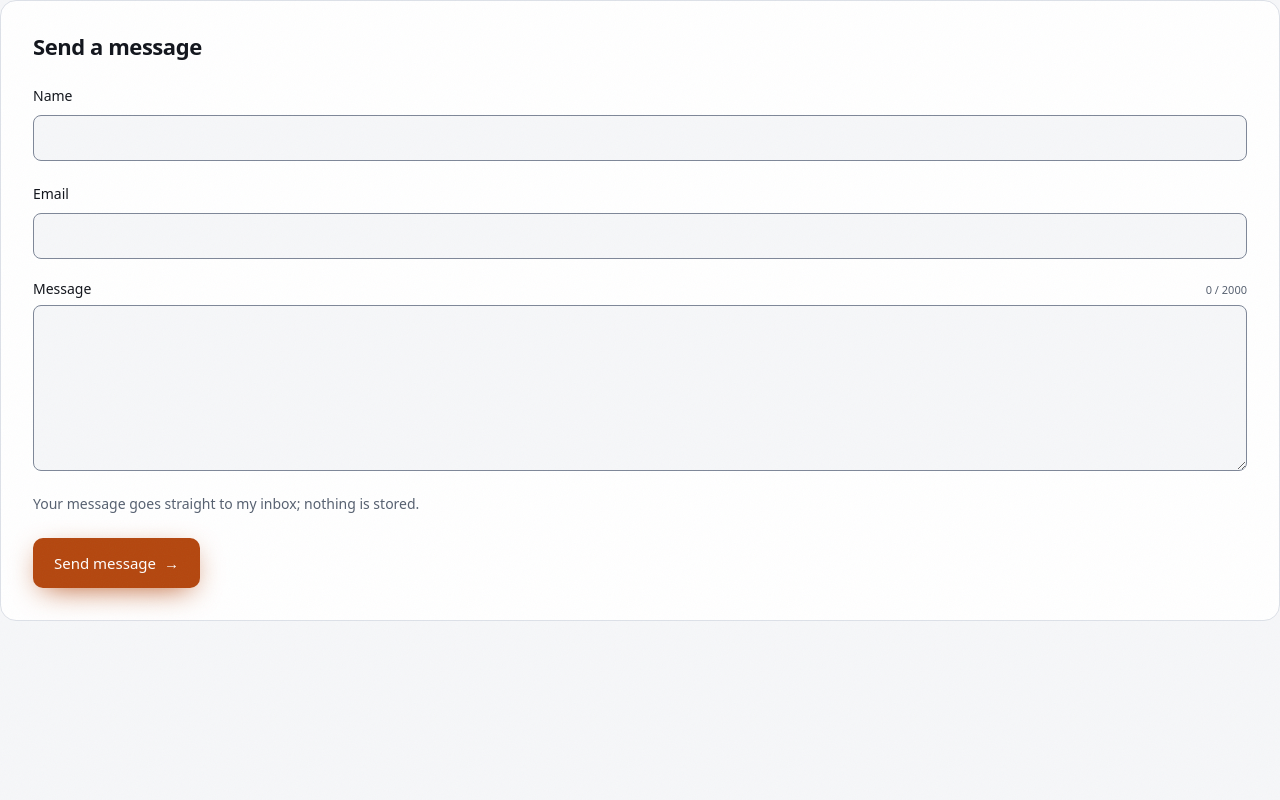
ContactForm › shows the send-failed alert when the network fails
The image size is (1280, 800).
In the field labelled "Name": (640, 138) x1=33 y1=115 x2=1247 y2=161, type "Ada"
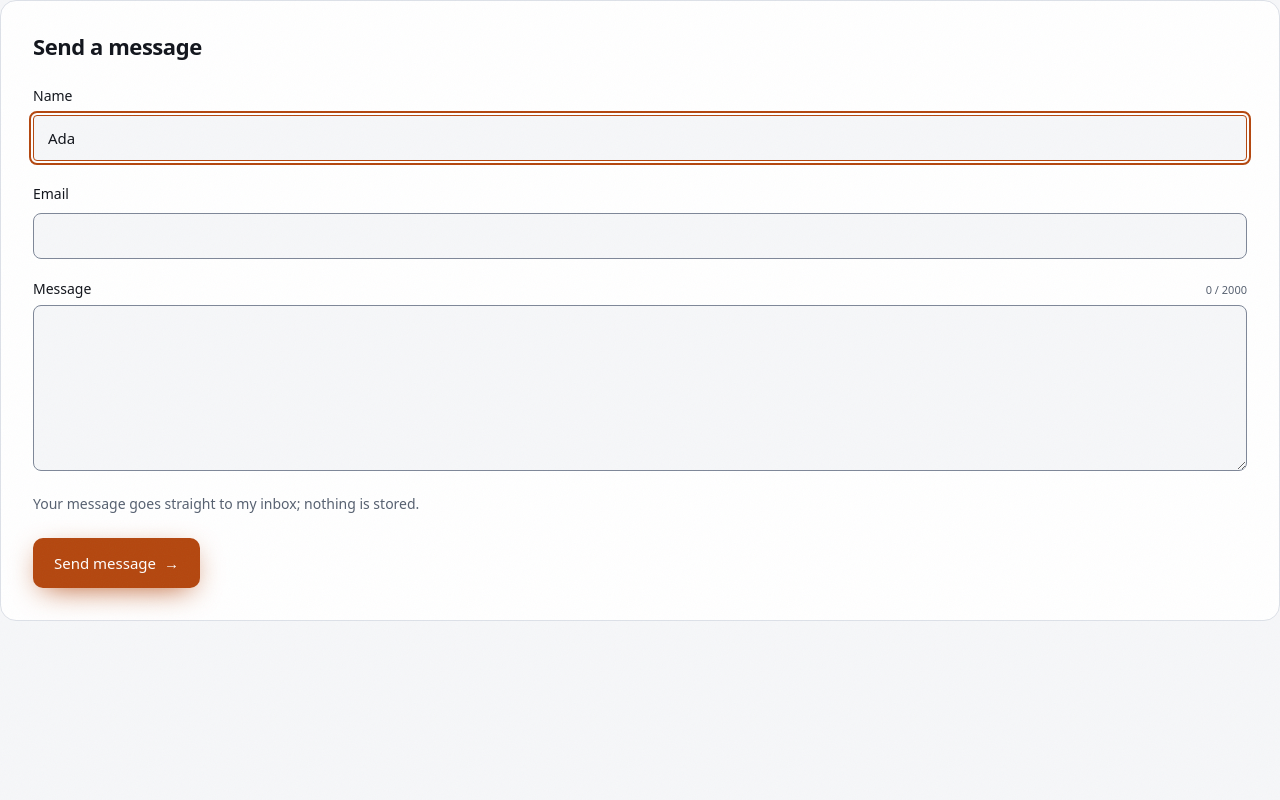
In the field labelled "Email": (640, 236) x1=33 y1=213 x2=1247 y2=259, type "ada@example.com"
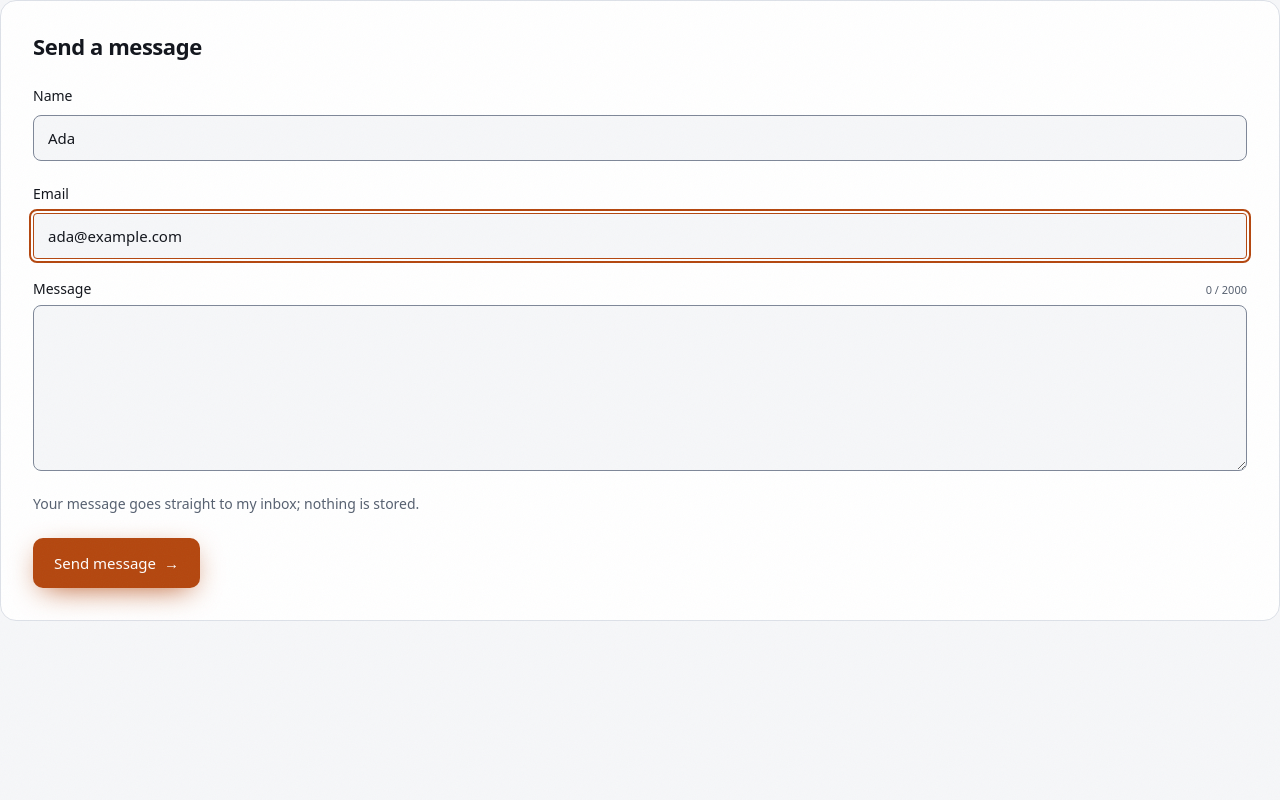
In the text box labelled "Message": (640, 388) x1=33 y1=305 x2=1247 y2=471, type "Hello there, nice site!"
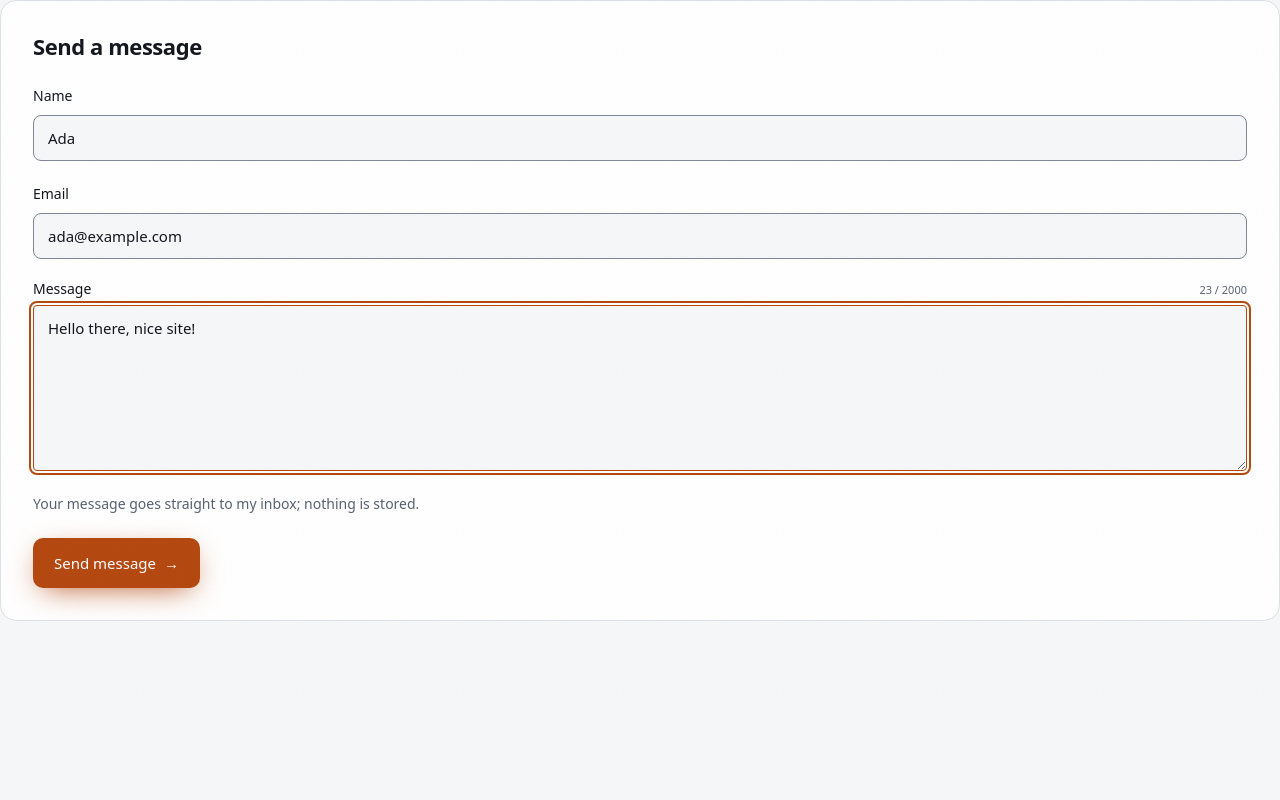
Click the button "Send message →": (116, 563) x1=33 y1=538 x2=200 y2=588
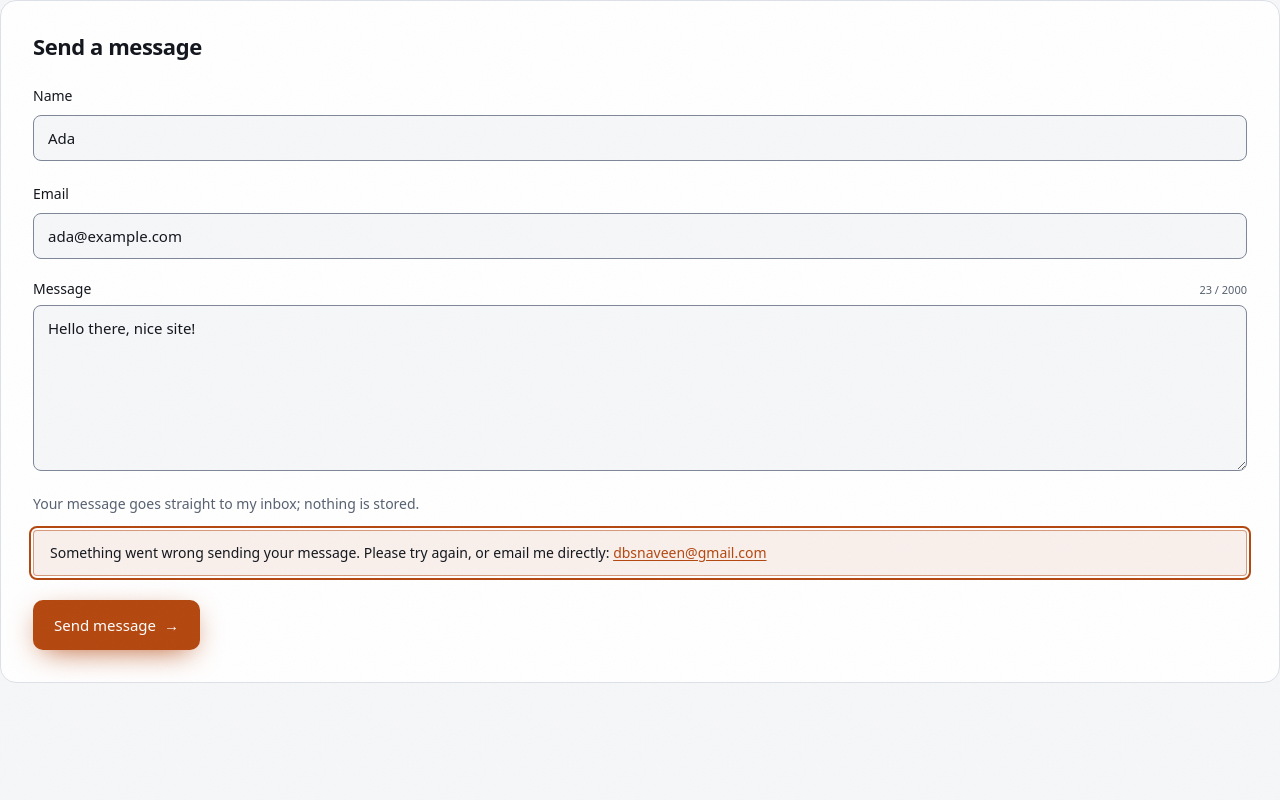
Check: the message shows "Something went wrong sending your message. Please try again, or email me directly:", box x1=50 y1=543 x2=610 y2=562
